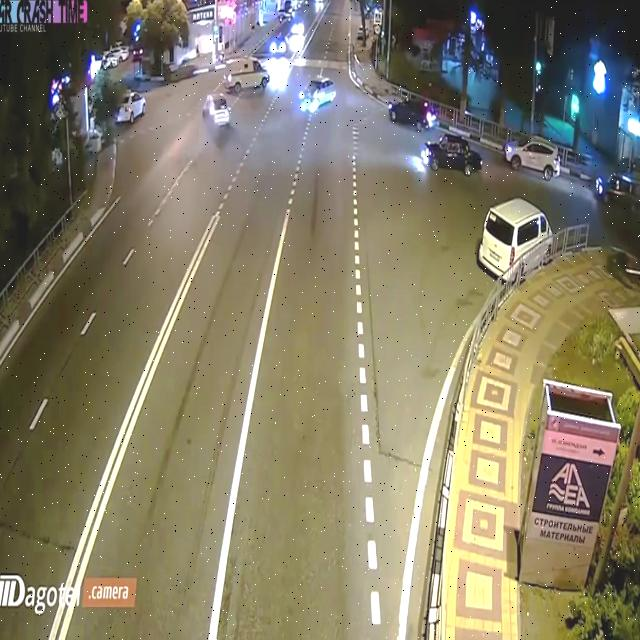accident: (294, 68, 340, 121), (199, 85, 237, 139)
